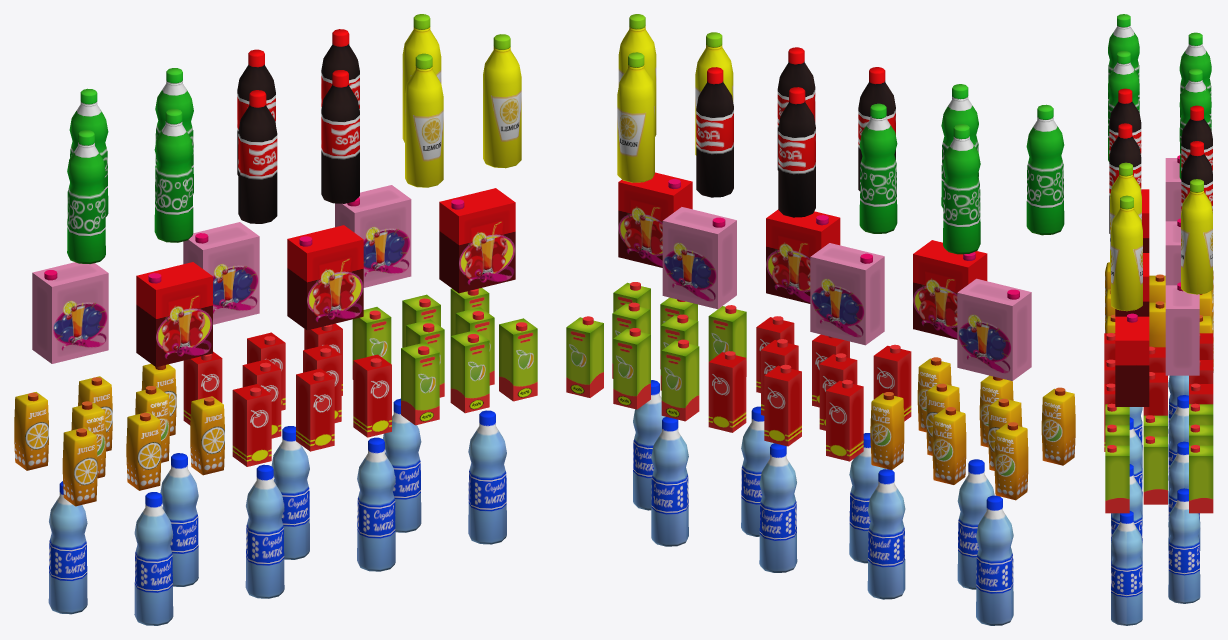
The model's file is CommFoodStuff01_5.FBX.
The picture shows the model from 3 angles, left to right: view 1: azimuth 30°, elevation 25°; view 2: azimuth 150°, elevation 25°; view 3: azimuth 270°, elevation 25°; orthographic projection. The views are drawn at different scales.
Visible parts, largest first — view 1: CommFoodStuff01_5; view 2: CommFoodStuff01_5; view 3: CommFoodStuff01_5.
Boxes of the visible parts, box(x1,y1,x2,y2) form: CommFoodStuff01_5: box(14, 14, 537, 625); CommFoodStuff01_5: box(566, 14, 1075, 625); CommFoodStuff01_5: box(1104, 14, 1213, 625).
Size of what is drawn, in the model's own units: 1.88 by 1.96 by 0.4482.
